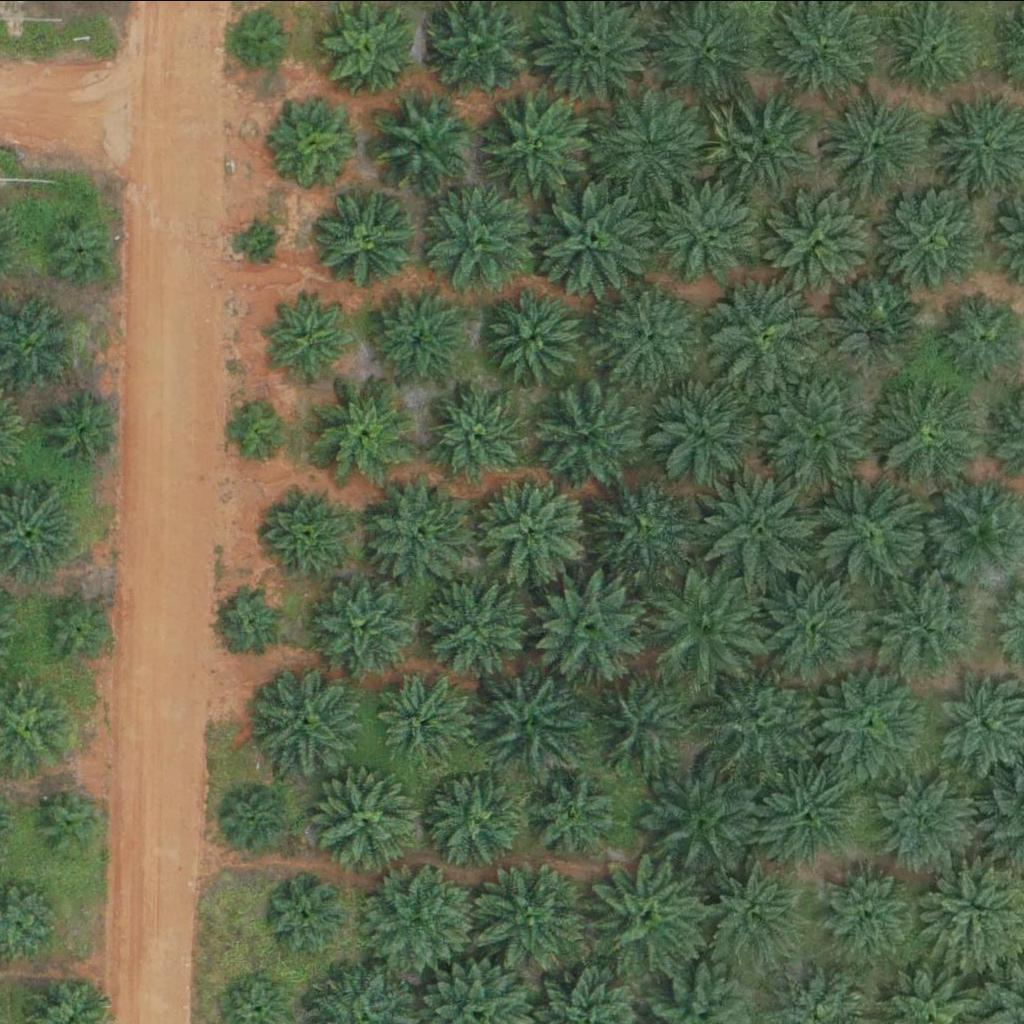Kelapa_Sawit: (470, 852, 596, 977), (585, 853, 711, 978), (641, 757, 767, 882), (461, 661, 587, 786), (580, 662, 706, 787), (696, 662, 822, 787), (530, 561, 656, 686), (648, 563, 774, 688), (696, 466, 822, 591), (534, 178, 660, 303), (591, 85, 717, 210), (810, 470, 936, 595), (750, 563, 876, 688), (807, 660, 933, 785), (473, 465, 598, 590), (704, 275, 829, 400), (753, 368, 878, 493), (866, 368, 991, 493), (482, 87, 596, 200), (363, 861, 476, 974), (698, 854, 812, 966), (417, 182, 530, 294), (653, 179, 766, 291), (702, 89, 815, 201), (815, 87, 928, 199), (313, 769, 414, 869), (428, 770, 529, 870), (254, 667, 355, 767), (375, 673, 476, 773), (311, 576, 412, 676), (423, 576, 524, 676), (368, 481, 469, 581), (595, 473, 696, 573), (315, 379, 416, 479), (430, 384, 531, 484), (544, 383, 645, 483), (648, 379, 749, 479), (367, 287, 468, 387), (483, 285, 584, 385), (599, 288, 700, 388), (771, 191, 872, 291), (885, 187, 986, 287), (822, 279, 923, 379), (874, 570, 975, 670), (524, 763, 624, 863), (312, 187, 412, 287), (370, 92, 470, 192), (755, 764, 855, 864), (876, 773, 976, 873), (822, 866, 922, 966), (267, 294, 355, 382), (322, 1, 410, 89), (264, 483, 352, 570), (276, 96, 364, 183), (42, 209, 118, 284), (34, 783, 110, 858), (269, 875, 344, 950), (48, 391, 123, 466), (42, 587, 117, 662), (223, 786, 286, 849), (221, 587, 284, 649), (222, 401, 285, 463), (234, 6, 297, 68), (242, 219, 280, 256)
